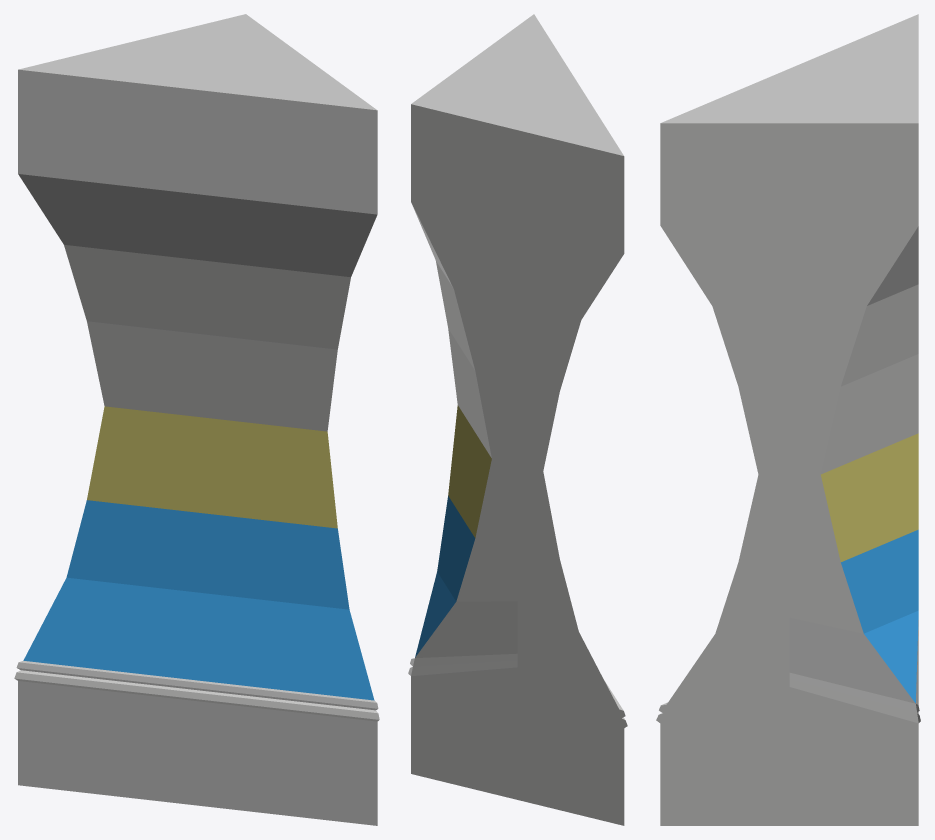
File: SM_Corner_InsideOut.fbx
The picture shows the model from 3 angles, left to right: view 1: azimuth 30°, elevation 25°; view 2: azimuth 150°, elevation 25°; view 3: azimuth 270°, elevation 25°; orthographic projection. The views are drawn at different scales.
Visible parts, largest first — view 1: SM_Wall_Corner_DoubleSide; view 2: SM_Wall_Corner_DoubleSide; view 3: SM_Wall_Corner_DoubleSide.
Boxes of the visible parts, x1=… form: SM_Wall_Corner_DoubleSide: x1=14, y1=14, x2=379, y2=825; SM_Wall_Corner_DoubleSide: x1=408, y1=14, x2=627, y2=825; SM_Wall_Corner_DoubleSide: x1=656, y1=14, x2=920, y2=825.
Bounding box in the file's own units: 205 × 600 × 205.
